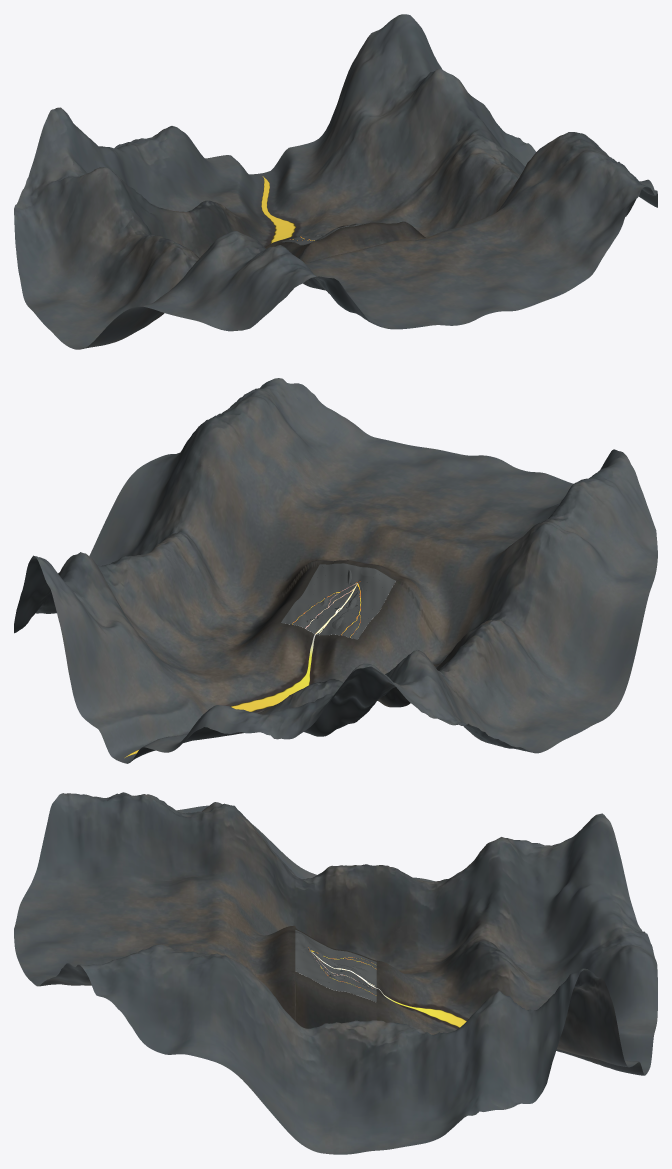
Rendered from ember-distant-valley-r4.glb.
3 views of the same model, one above another, from view 1: azimuth 30°, elevation 25°; view 2: azimuth 150°, elevation 25°; view 3: azimuth 270°, elevation 25° (orthographic). The views are drawn at different scales.
Parts seen in each view (by area): view 1: EMBER_DistantValley, EMBER_DistantValleyHeat; view 2: EMBER_DistantValley, EMBER_Terrain, EMBER_DistantValleyHeat; view 3: EMBER_DistantValley, EMBER_Terrain.
Part boxes in pixels (x1,y1,x2,y2): EMBER_DistantValley: (14, 14, 657, 349); EMBER_DistantValleyHeat: (261, 176, 296, 243); EMBER_DistantValley: (14, 378, 657, 763); EMBER_Terrain: (281, 563, 395, 639); EMBER_DistantValleyHeat: (124, 634, 315, 757); EMBER_DistantValley: (14, 792, 657, 1154); EMBER_Terrain: (295, 930, 376, 1002).
Bounding box in the file's own units: 2696 × 801 × 2651.
8 materials, 1 textured.
